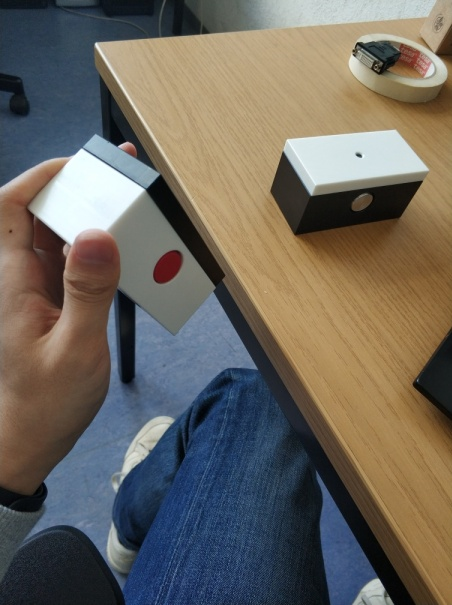black+white+red: (20, 131, 226, 337)
white+black+silver: (268, 129, 431, 237)
